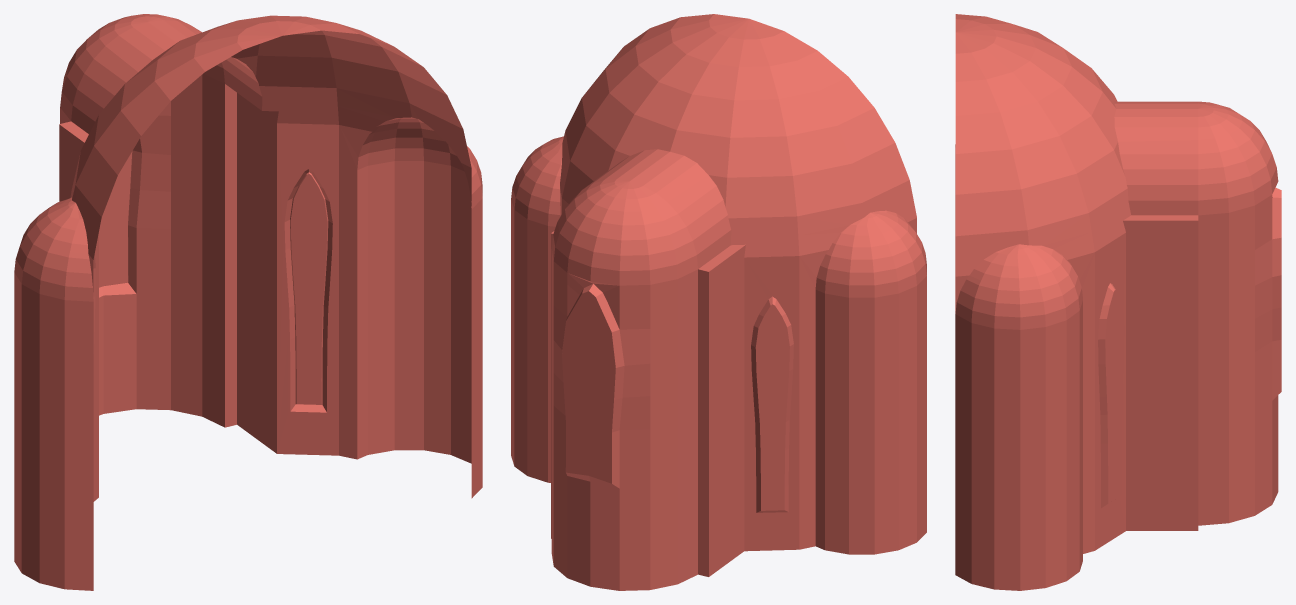
Rendered from mainAltar_v013.fbx.
3 views of the same model, side by side, from view 1: azimuth 30°, elevation 25°; view 2: azimuth 150°, elevation 25°; view 3: azimuth 270°, elevation 25° (orthographic). The views are drawn at different scales.
Parts seen in each view (by area): view 1: MainAltarBody; view 2: MainAltarBody; view 3: MainAltarBody.
Boxes of the visible parts, x1,y1,x2,y2 form: MainAltarBody: [14, 14, 482, 590]; MainAltarBody: [511, 14, 926, 590]; MainAltarBody: [955, 14, 1281, 590].
Size of the model in its own units: 3020 by 3267 by 2101.
